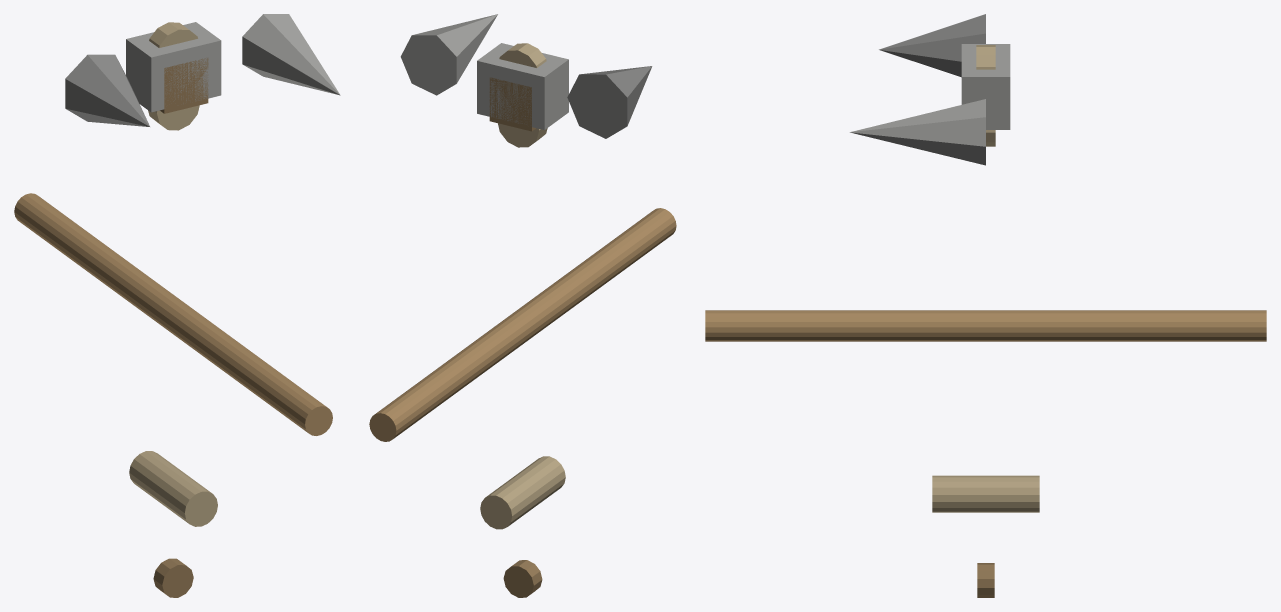
The model's file is stone_pickaxe.glb.
3 views of the same model, side by side, from view 1: azimuth 30°, elevation 25°; view 2: azimuth 150°, elevation 25°; view 3: azimuth 270°, elevation 25° (orthographic). The views are drawn at different scales.
Parts seen in each view (by area): view 1: geometry_0; view 2: geometry_0; view 3: geometry_0.
Boxes of the visible parts, x1,y1,x2,y2 form: geometry_0: [14, 14, 340, 597]; geometry_0: [369, 14, 676, 597]; geometry_0: [705, 14, 1266, 597].
Bounding box in the file's own units: 0.5376 × 1.24 × 1.15.
